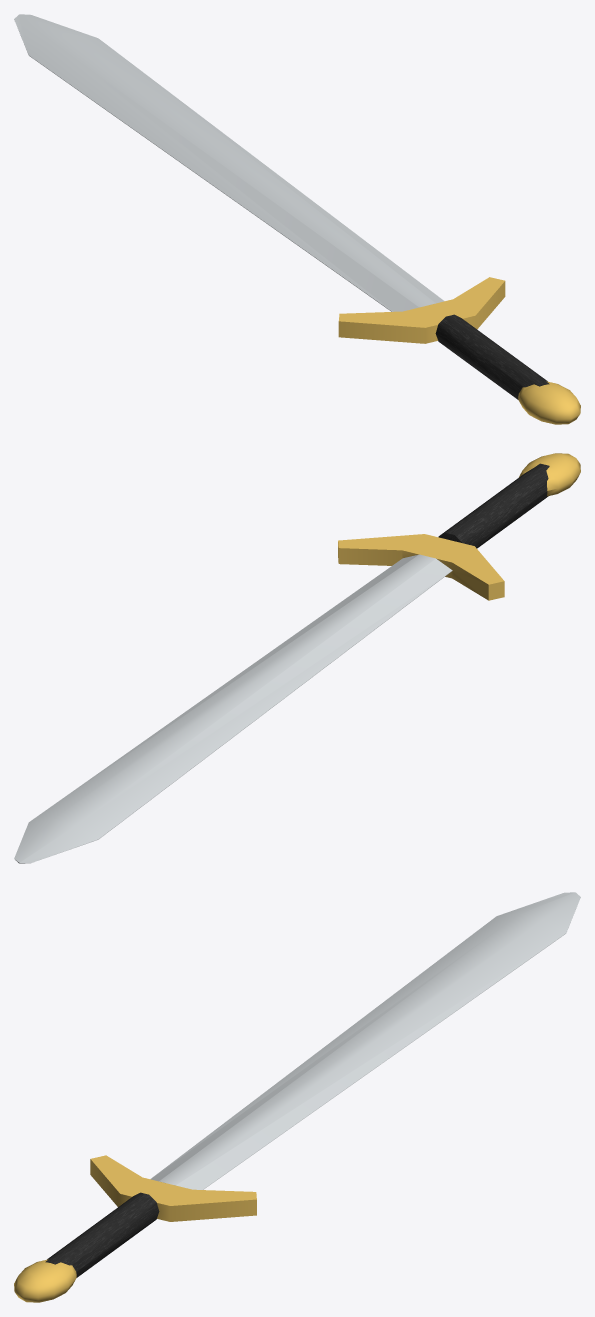
Rendered from sword.fbx.
3 views of the same model, one above another, from view 1: azimuth 30°, elevation 25°; view 2: azimuth 150°, elevation 25°; view 3: azimuth 330°, elevation 25° (orthographic).
Parts seen in each view (by area): view 1: Sword1; view 2: Sword1; view 3: Sword1.
Part boxes in pixels (bbox=[...]): Sword1: bbox=[14, 14, 580, 424]; Sword1: bbox=[14, 453, 580, 863]; Sword1: bbox=[14, 892, 580, 1302].
Size of the model in its own units: 91.47 by 525 by 15.75.
3 materials, 1 textured.
